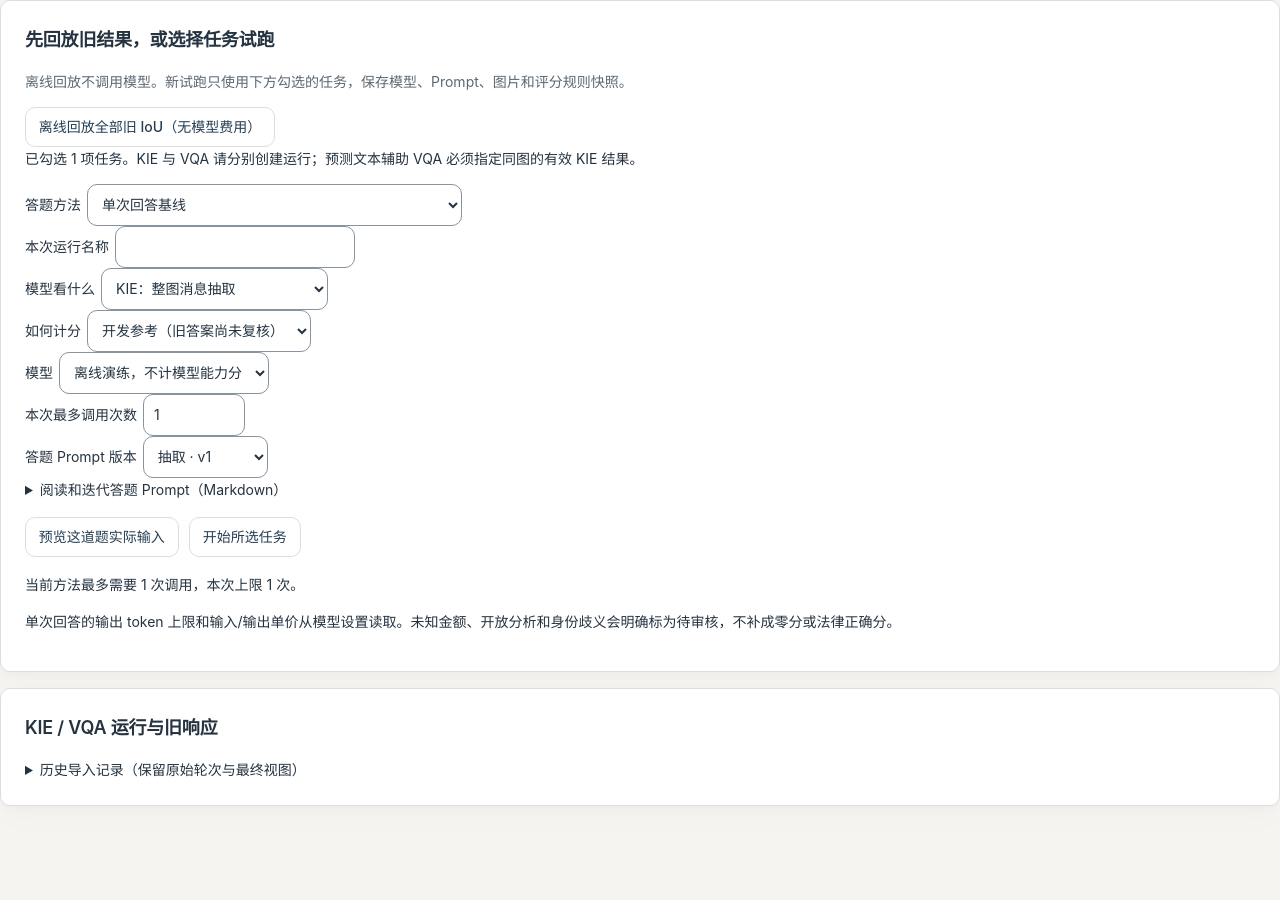
Test case: shows the native ReAct upper bound and refuses unsupported input tracks
The image size is (1280, 900).
Select "ReAct：作者控制器与图像工具适配" in the dropdown labelled "答题方法" at [274, 205], box [87, 184, 462, 226]
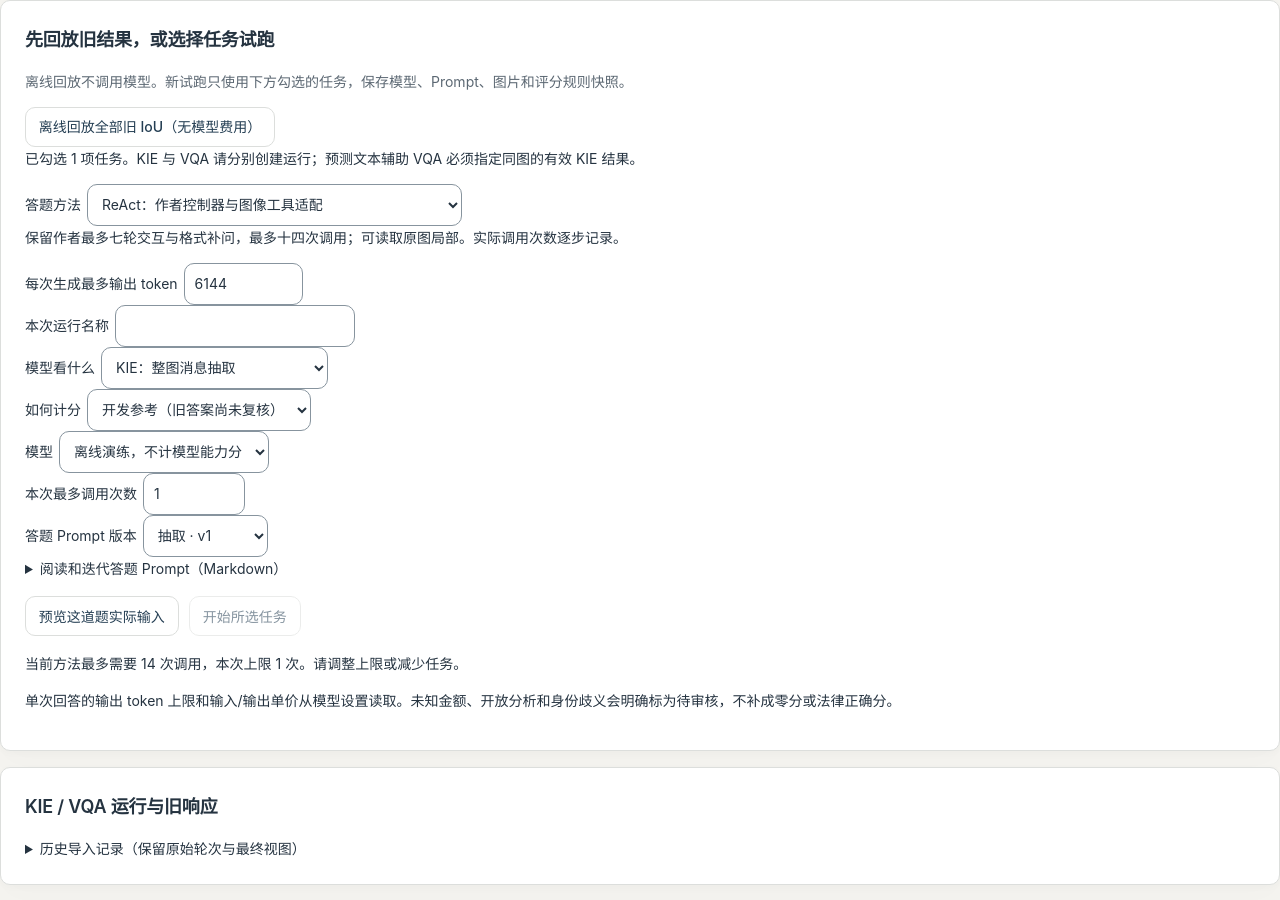
Check: the message shows "最多需要 14 次调用", box [25, 655, 467, 672]
Replace the text in the number field labelled "本次最多调用次数" with "14" at [194, 494], box [143, 473, 245, 515]
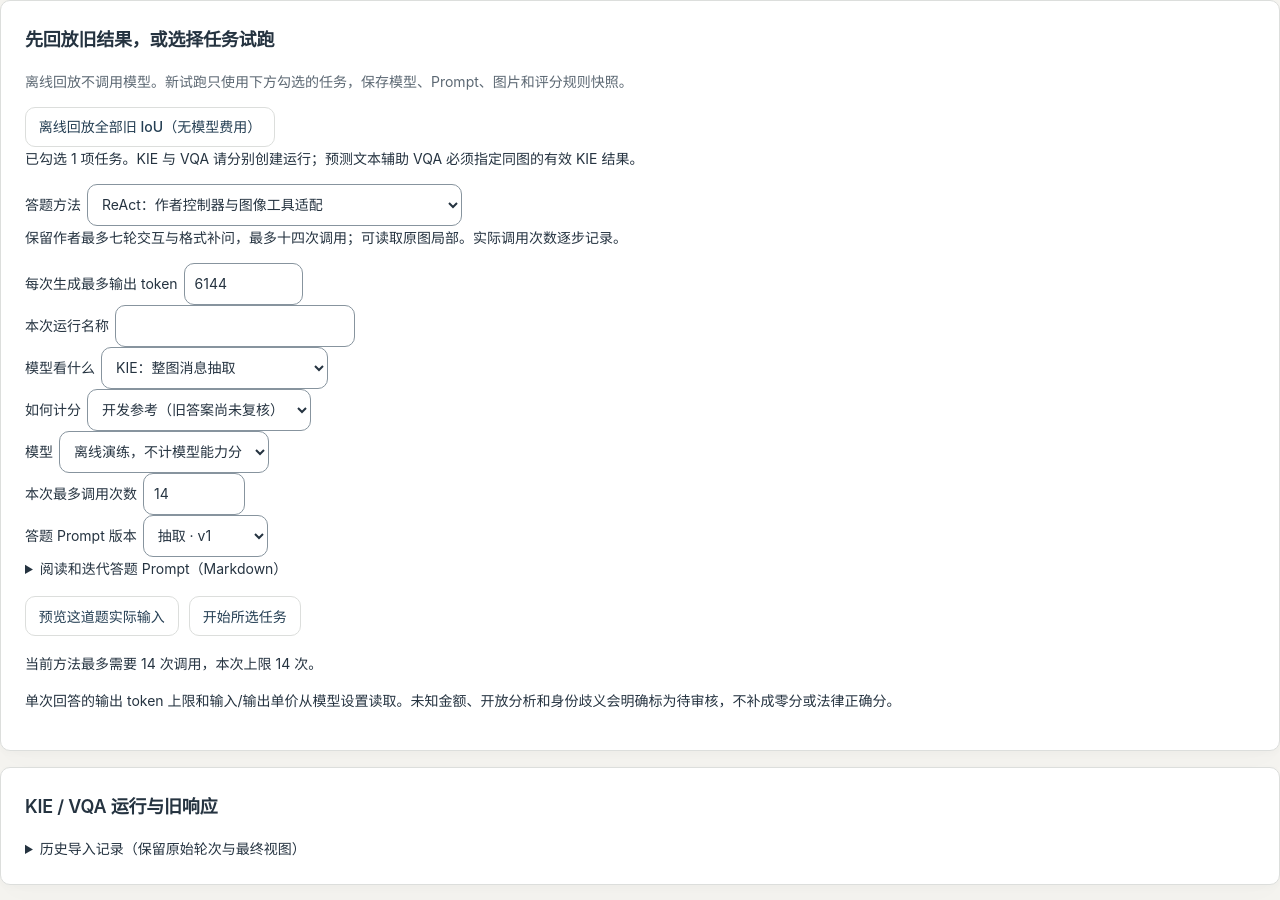
Select "VQA：只看已保存的 KIE 预测" in the dropdown labelled "模型看什么" at [214, 368], box [101, 347, 328, 389]
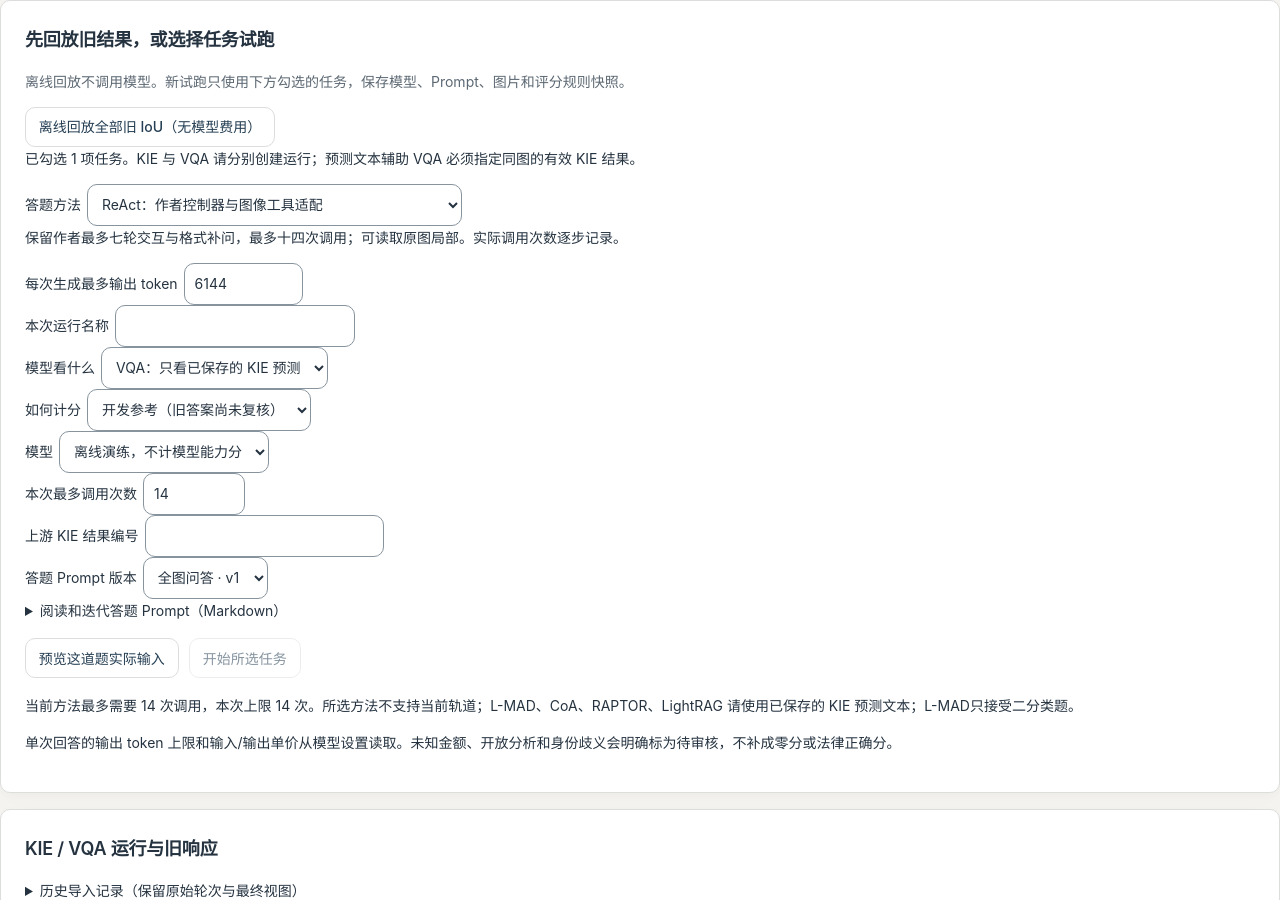
Check: the button "开始所选任务" is disabled, box [189, 638, 301, 678]
